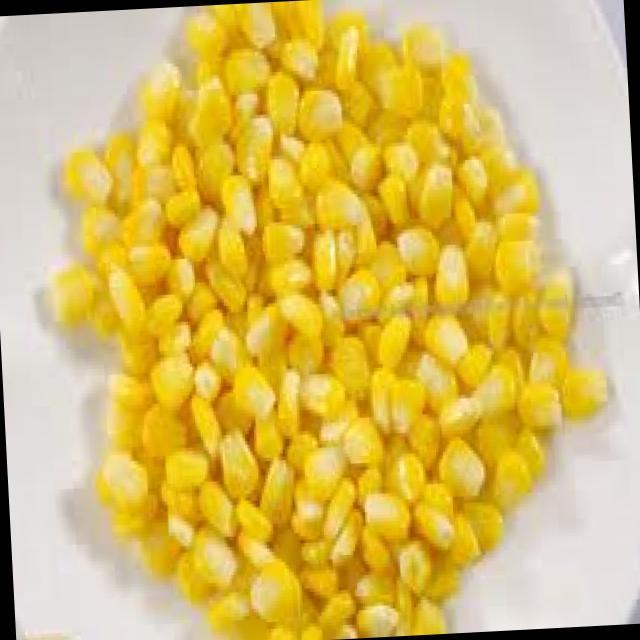Corn: (28, 0, 628, 640)
